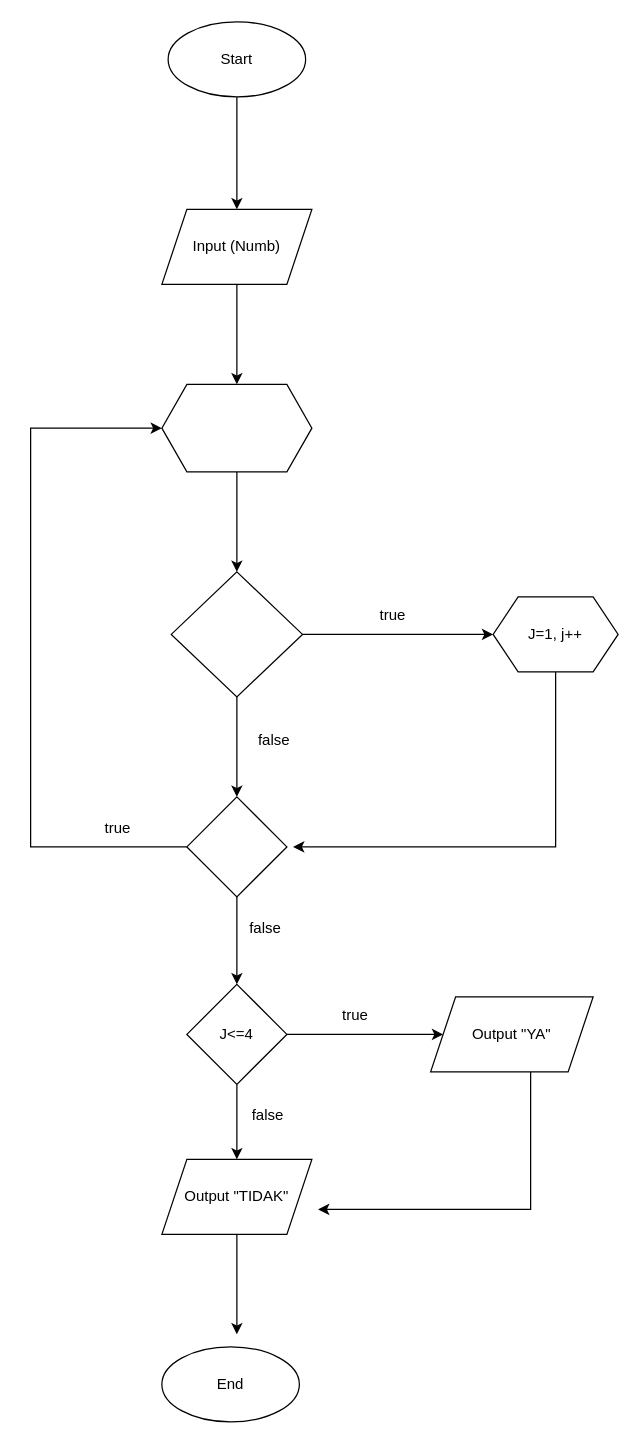
The diagram is 640 pixels wide and 1444 high, and some of its shapes have lost their labels. Here are the shapes that lost their labels. From the top down, the box of each, then its label:
(161, 383, 312, 472): i=1 to Numb i++
(170, 571, 302, 697): Numb % i==0
(186, 796, 287, 897): j<=Numb
